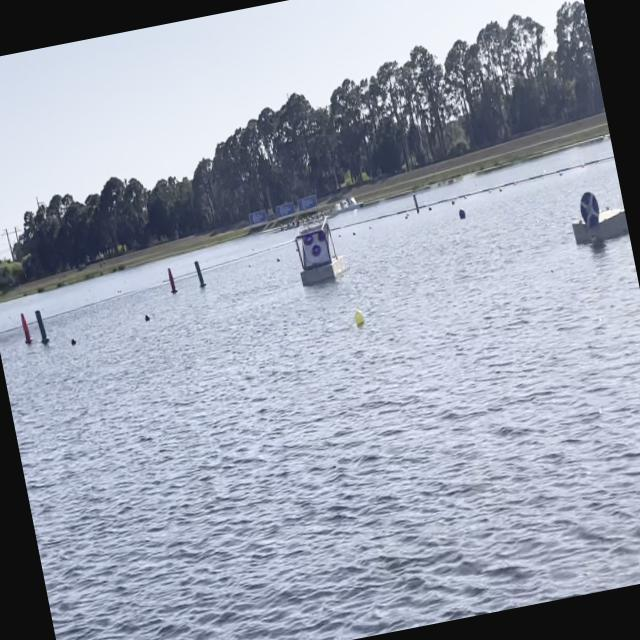buoy: (354, 309, 366, 327), (458, 208, 466, 220), (70, 336, 77, 346), (144, 314, 150, 323)
